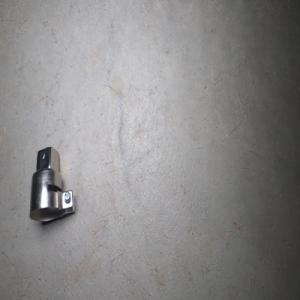MetalPart: (29, 145, 75, 222)
